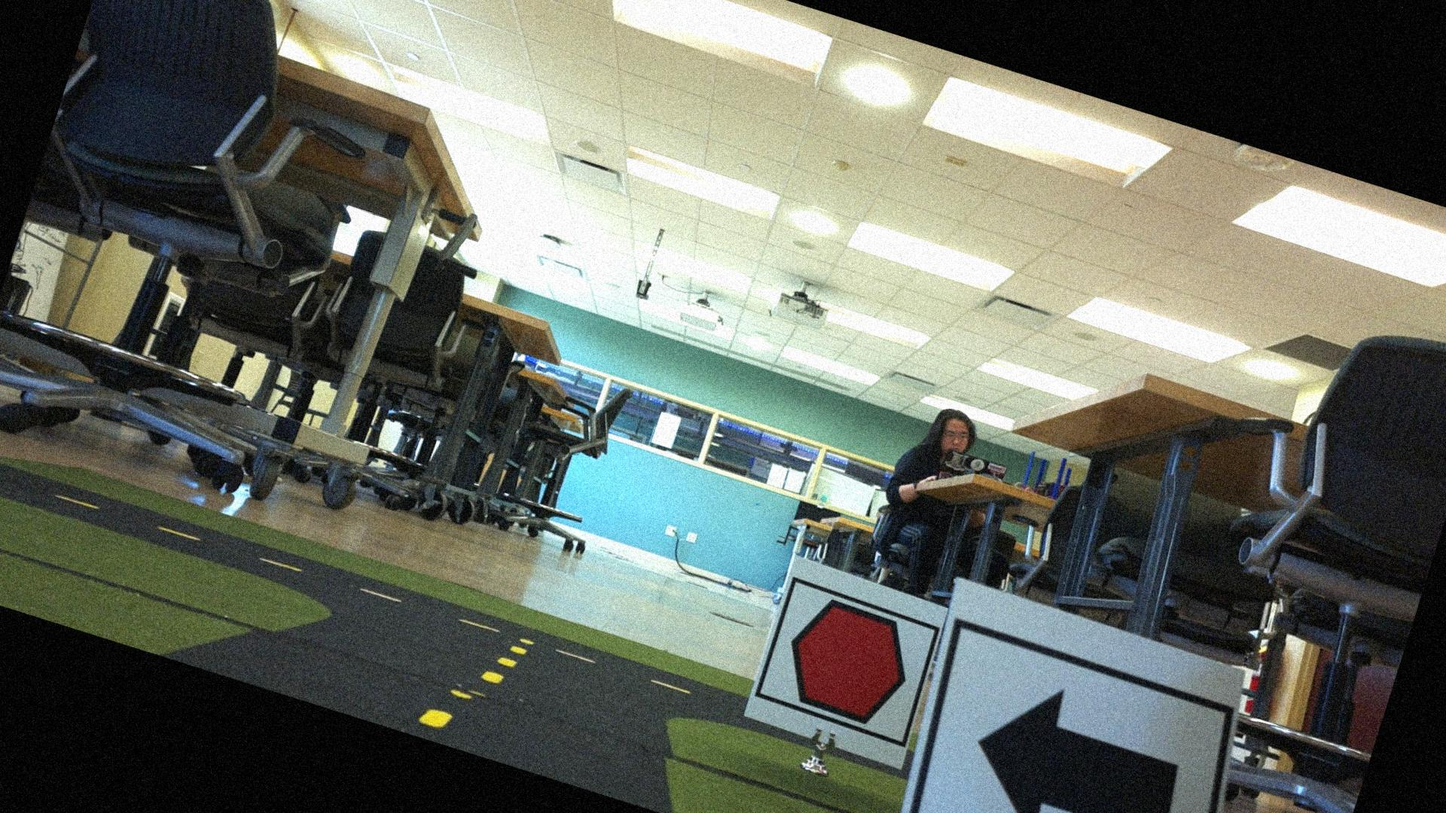stop: (759, 582, 935, 743)
turnright: (897, 630, 1237, 812)
yellowline: (420, 623, 526, 748)
